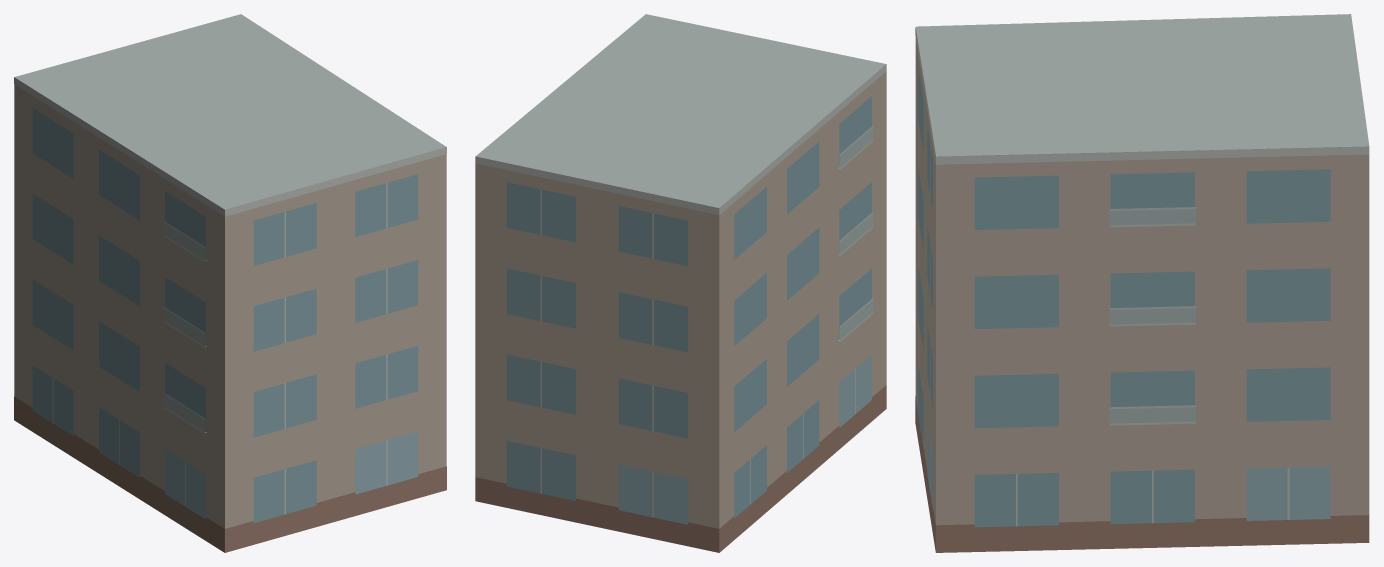
The model's file is survey-upis-32701697.glb.
The picture shows the model from 3 angles, left to right: view 1: azimuth 30°, elevation 25°; view 2: azimuth 150°, elevation 25°; view 3: azimuth 270°, elevation 25°; orthographic projection. The views are drawn at different scales.
Visible parts, largest first — view 1: survey-upis-32701697.tmp; view 2: survey-upis-32701697.tmp; view 3: survey-upis-32701697.tmp.
Part boxes in pixels (x1,y1,x2,y2): survey-upis-32701697.tmp: [14, 14, 446, 552]; survey-upis-32701697.tmp: [475, 14, 886, 552]; survey-upis-32701697.tmp: [915, 14, 1369, 552].
Bounding box in the file's own units: 9.18 × 11.9 × 12.36.
